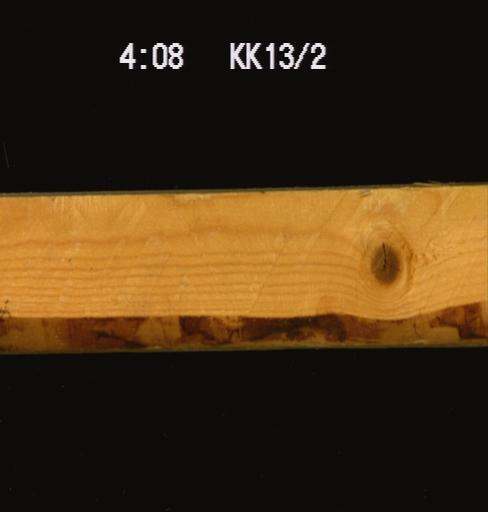sound_knot: (367, 240, 400, 287)
wave: (0, 296, 487, 353)
